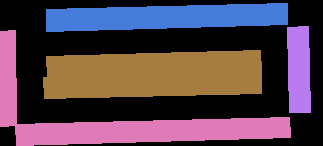parkingspot: (15, 117, 290, 145), (46, 3, 287, 31), (43, 71, 261, 98), (46, 50, 261, 77), (287, 26, 310, 112), (0, 30, 16, 126)
